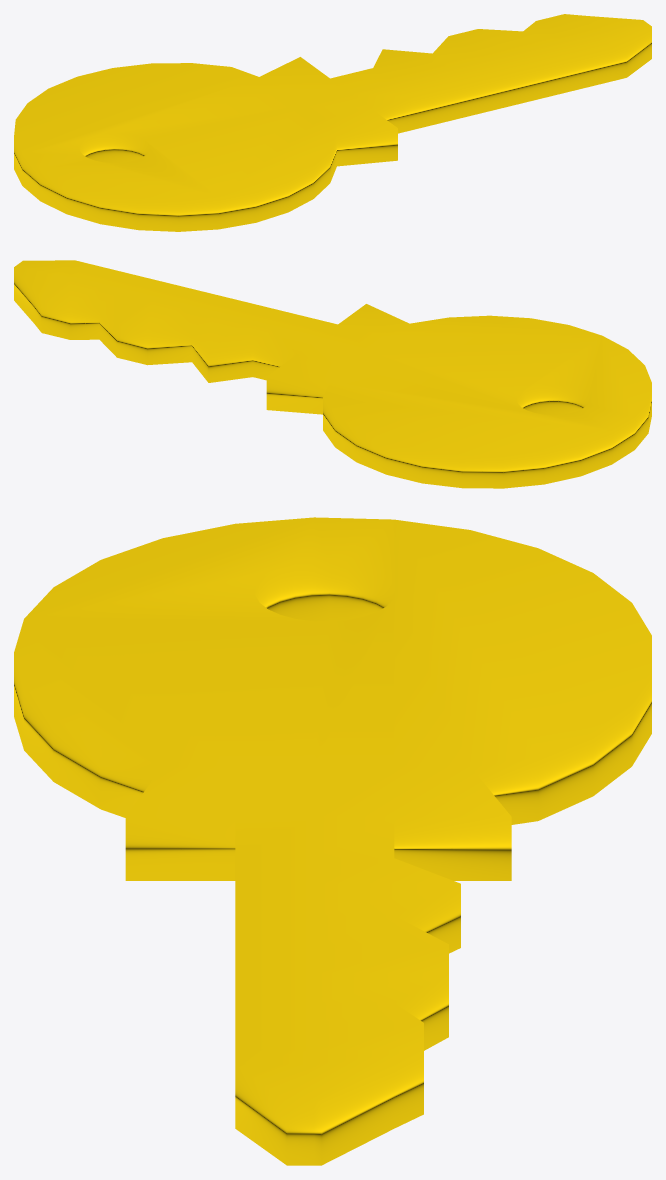
Rendered from Key_2.fbx.
3 views of the same model, one above another, from view 1: azimuth 30°, elevation 25°; view 2: azimuth 150°, elevation 25°; view 3: azimuth 270°, elevation 25° (orthographic). The views are drawn at different scales.
Visible parts, largest first — view 1: Cylinder.081; view 2: Cylinder.081; view 3: Cylinder.081.
Boxes of the visible parts, x1,y1,x2,y2 form: Cylinder.081: (14, 14, 651, 231); Cylinder.081: (14, 260, 651, 488); Cylinder.081: (14, 517, 651, 1165).
Size of the model in its own units: 14.62 by 0.7508 by 6.75.
